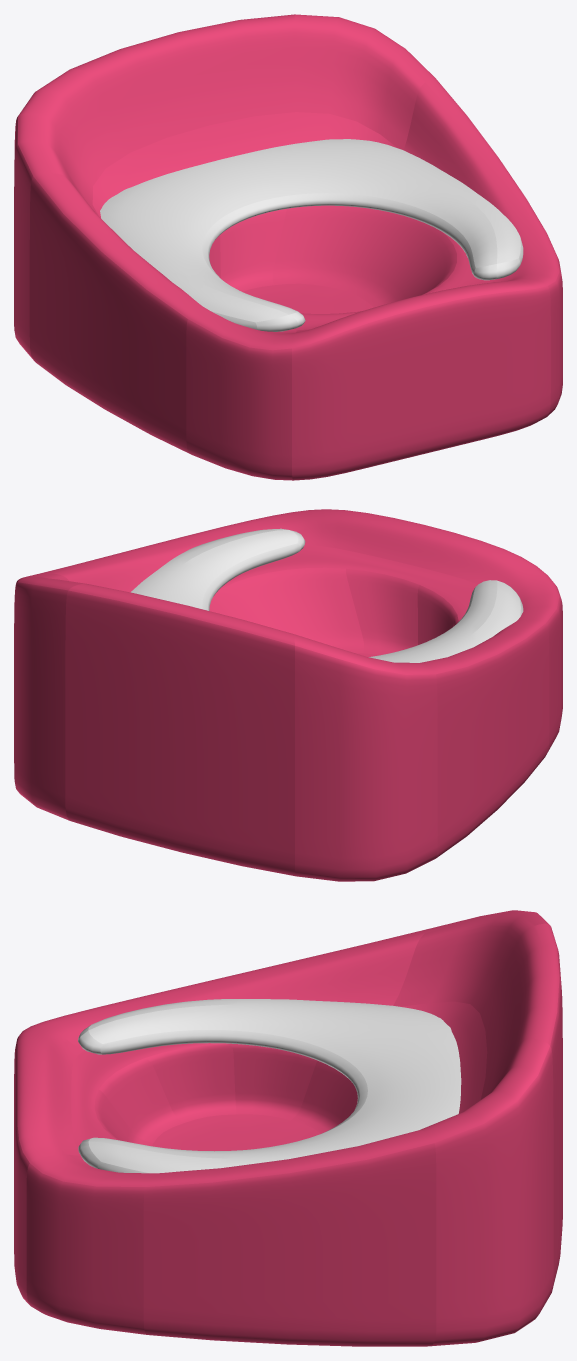
File: SM_Potty.fbx
3 views of the same model, one above another, from view 1: azimuth 30°, elevation 25°; view 2: azimuth 150°, elevation 25°; view 3: azimuth 270°, elevation 25° (orthographic). The views are drawn at different scales.
Visible parts, largest first — view 1: Cube.009, Cylinder.005; view 2: Cube.009, Cylinder.005; view 3: Cube.009, Cylinder.005.
Part boxes in pixels (bbox=[...]): Cube.009: bbox=[14, 14, 562, 480]; Cylinder.005: bbox=[100, 139, 523, 331]; Cube.009: bbox=[14, 509, 562, 881]; Cylinder.005: bbox=[130, 528, 523, 662]; Cube.009: bbox=[14, 910, 562, 1346]; Cylinder.005: bbox=[78, 999, 461, 1173].
Bounding box in the file's own units: 201 × 117 × 214.
